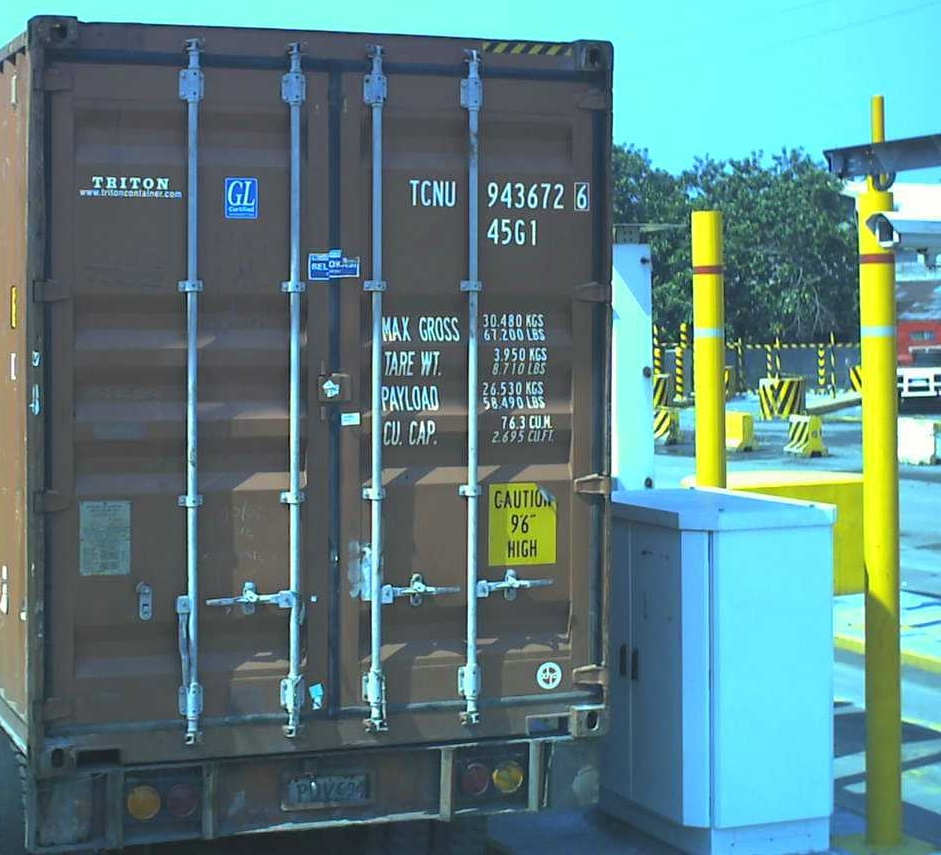container_door: (25, 13, 611, 773)
